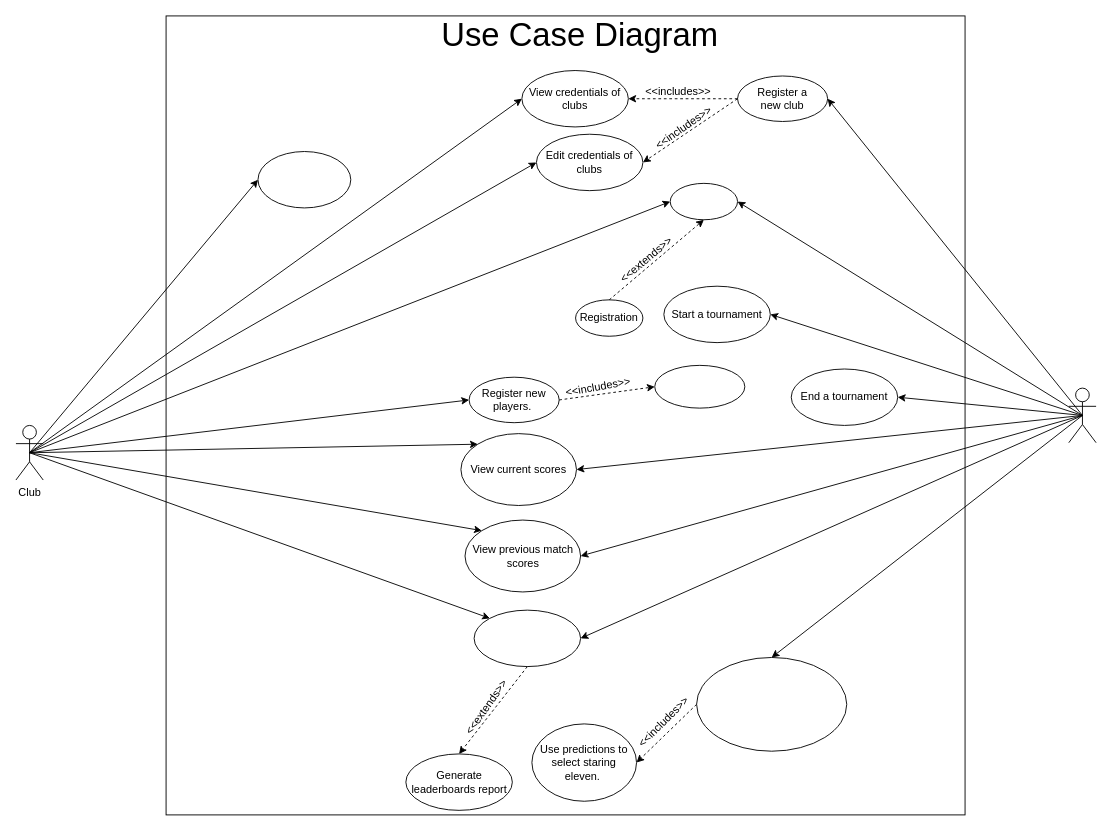
Some shapes in this 1114 by 831 pixel diagram are drawn without their labels. Each missing label, with the box of its shape:
Admin: (1068, 387, 1096, 443)
Do scoring for matches.: (257, 151, 351, 208)
Edit player credentials.: (654, 364, 745, 408)
Login: (669, 182, 738, 220)
Make predictions on player performance based on previous performances: (696, 657, 847, 751)
View players leaderboards: (473, 609, 581, 667)
